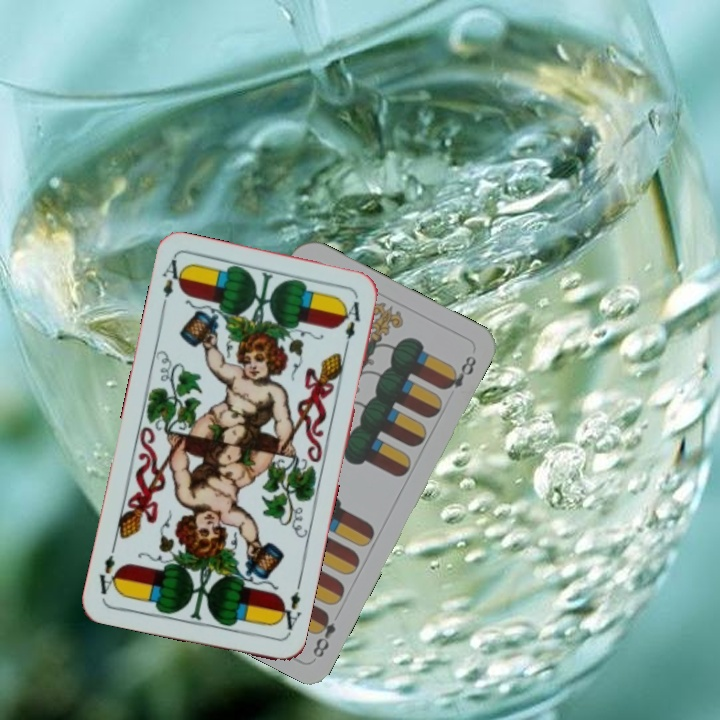E8: (308, 607, 339, 661)
EA: (273, 587, 303, 637), (158, 255, 188, 300)
